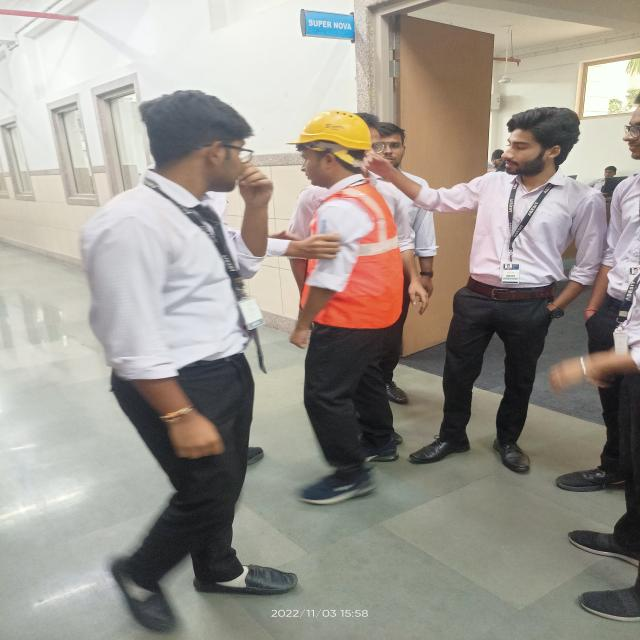safe: (290, 108, 410, 506)
unsafe: (85, 86, 298, 640), (422, 103, 598, 479)
